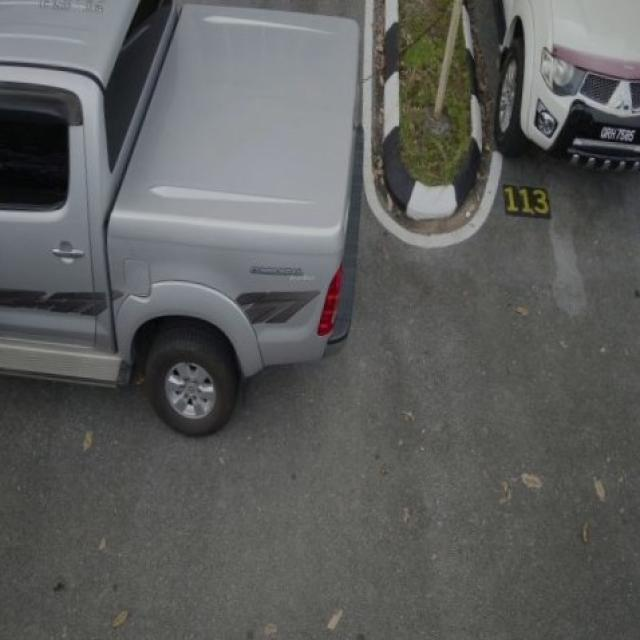illegalparking: (0, 0, 387, 444)
